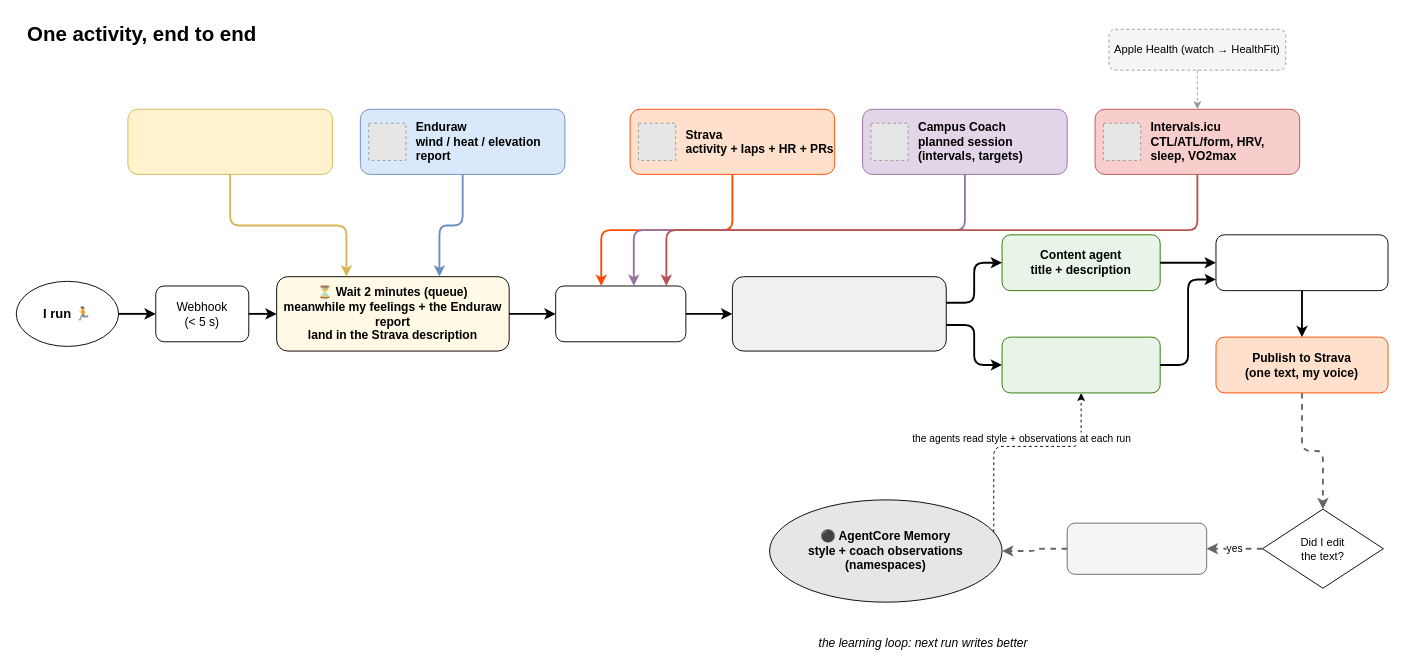
Some shapes in this 1404 by 668 pixel diagram are drawn without their labels. Grey dashed boxes stand in for pictures. The centre of each missing label's shape, as x and y in pixels:
"Coach agent trends feedback" belongs at [1080,364].
"Computed in code paces · workout type · plan matching (never by the LLM)" belongs at [838,313].
"Fetch all sources" belongs at [620,313].
"Nightly diff similarity < 99.5% ?" belongs at [1136,548].
"Verify vs computed facts regenerate → strip" belongs at [1301,262].
"🏃 Me raw feelings, typed from the phone" belongs at [229,141].
